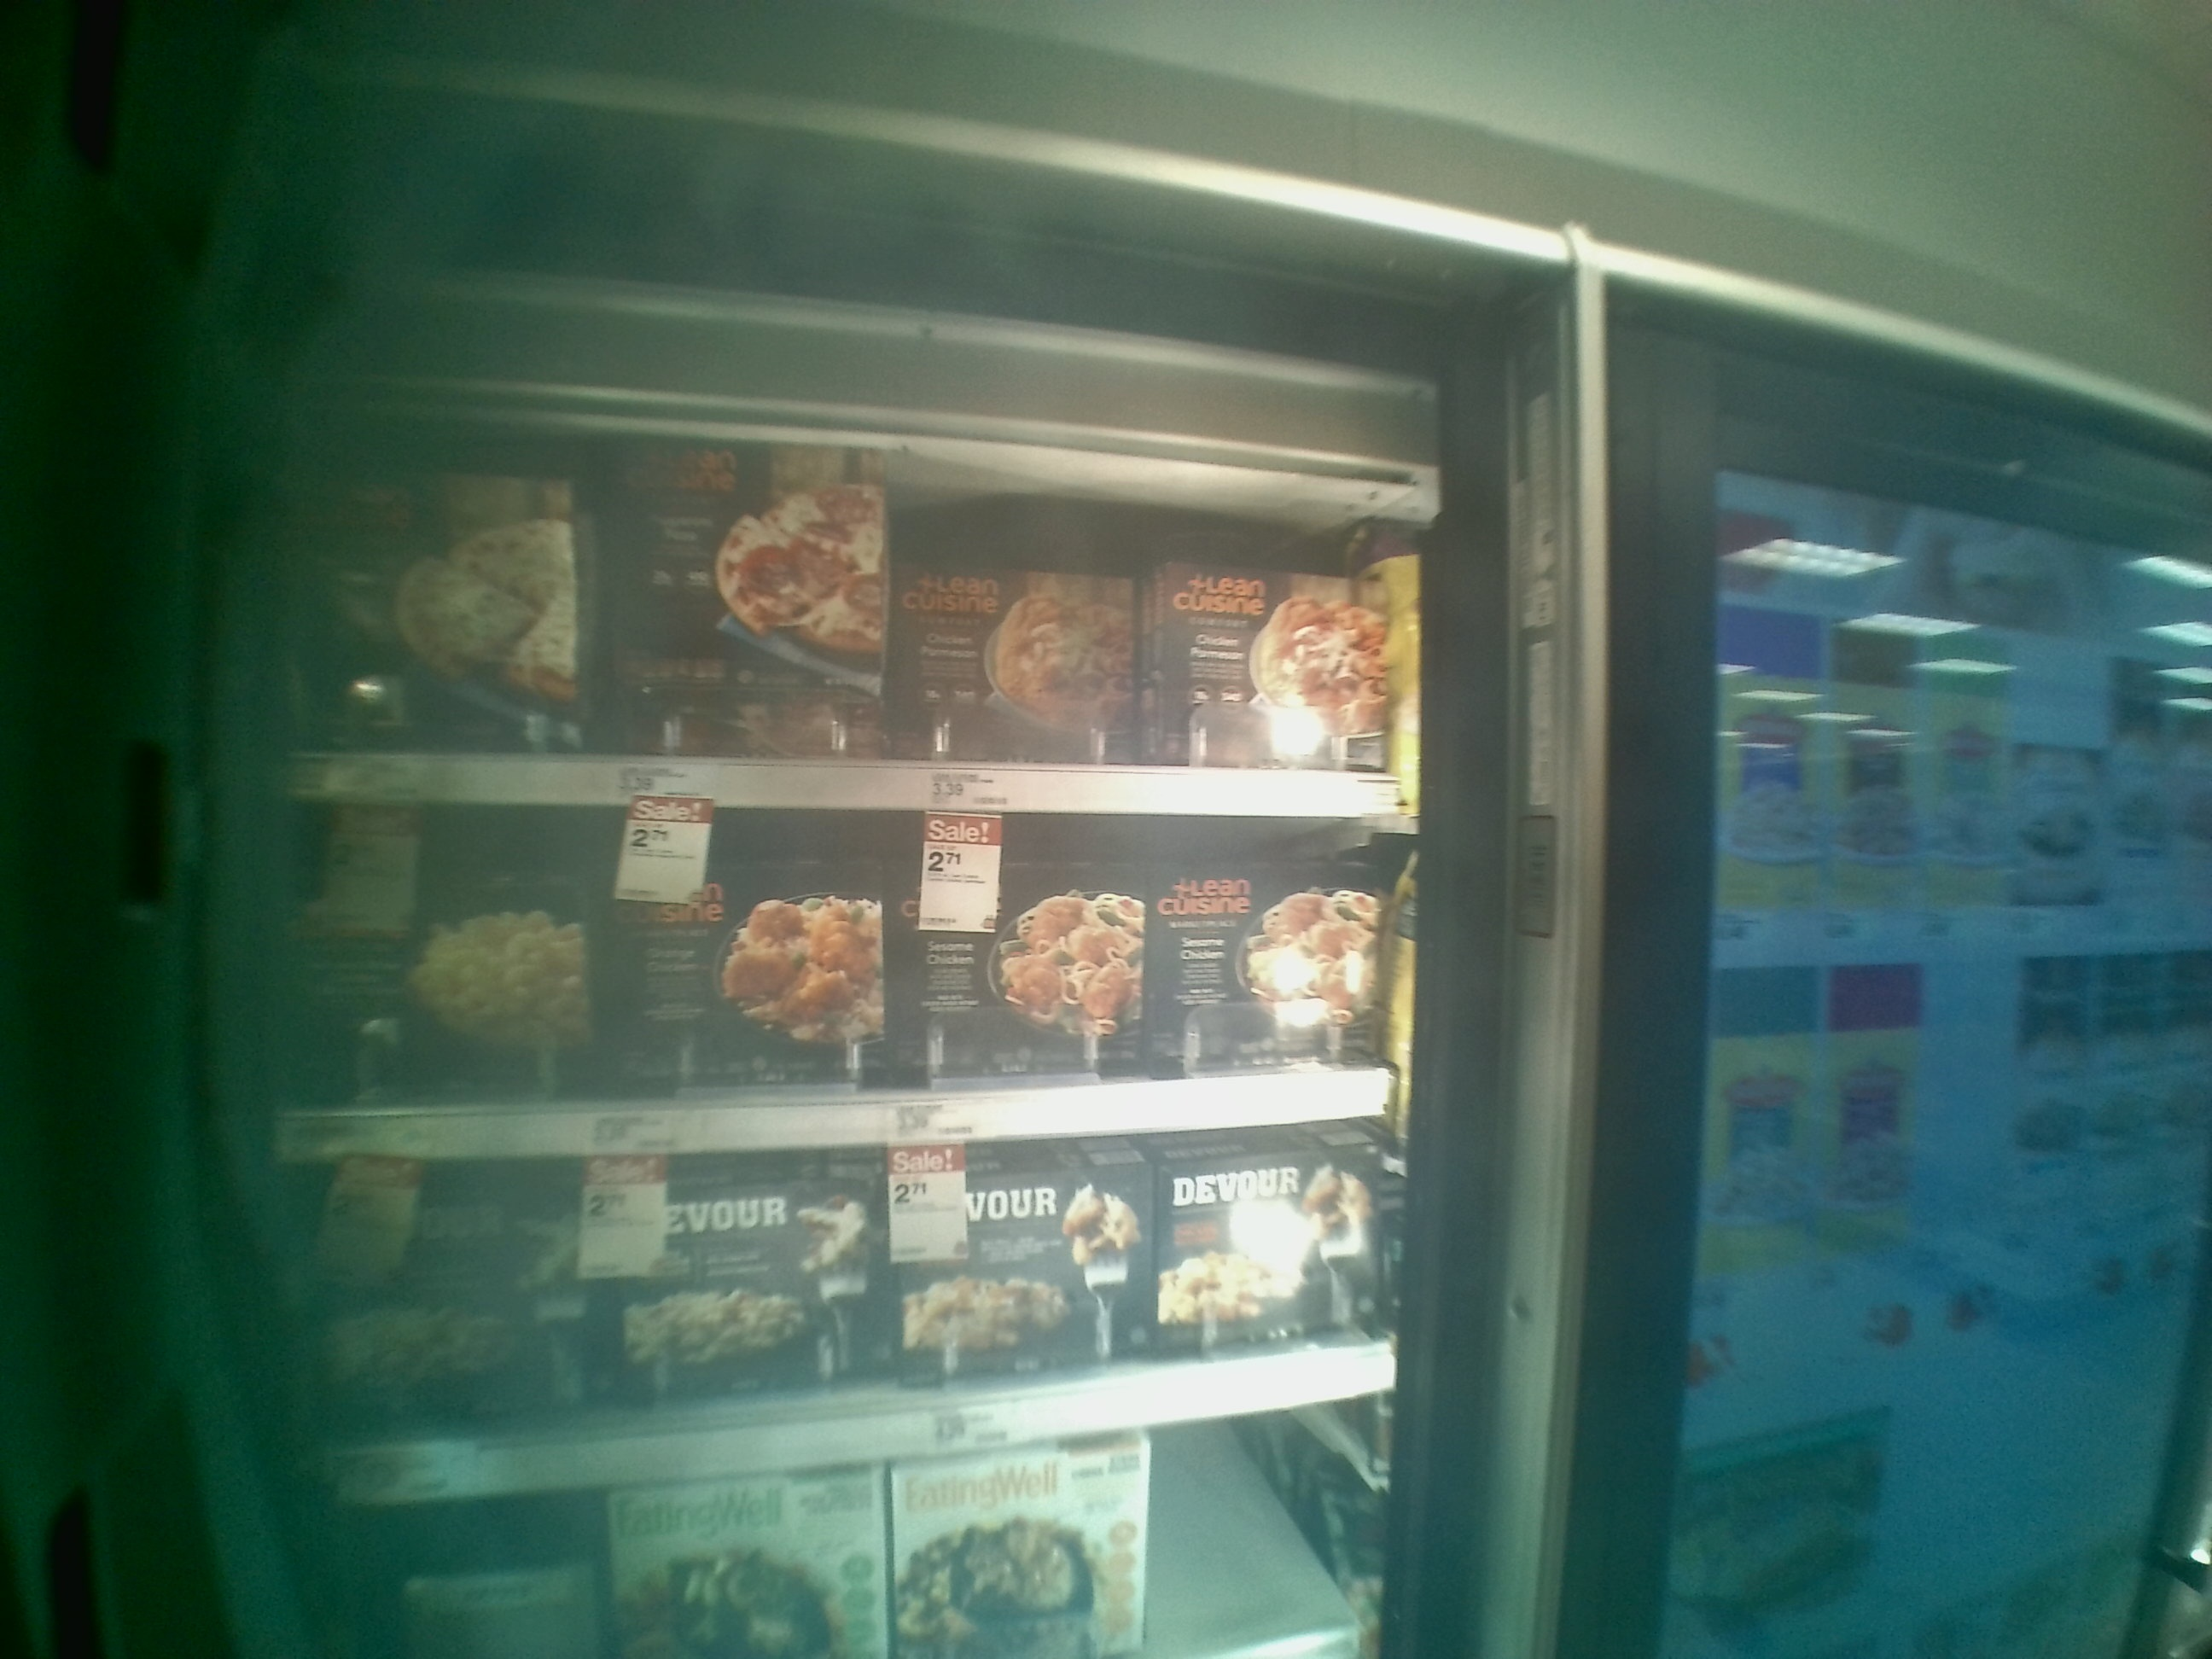shelf: (270, 788, 1411, 1155)
